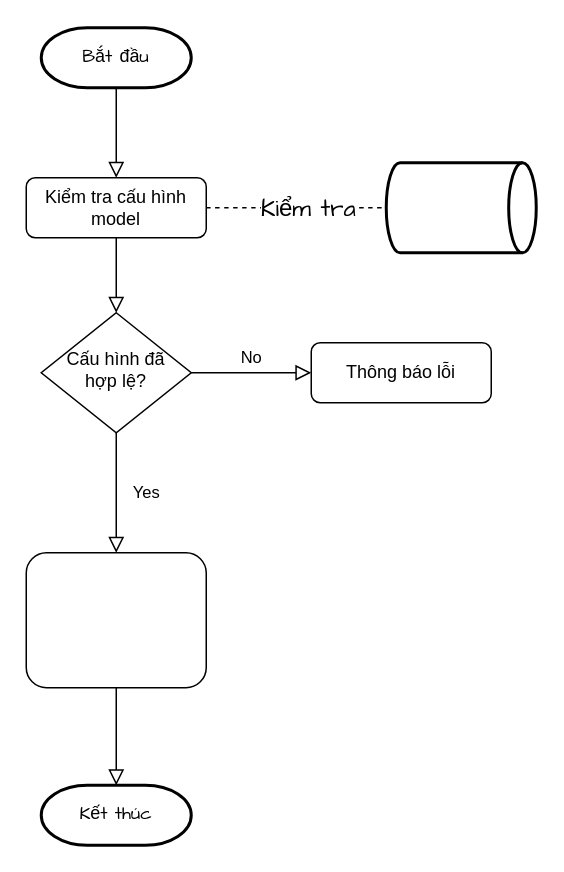
The diagram is 564 pixels wide and 872 high, and some of its shapes have lost their labels. Here are the shapes that lost their labels. From the top down, the centre of each, then its label:
pixel 460 207: Config
pixel 115 619: Huấn luyện mô hình theo cấu hình đã thiết lập
